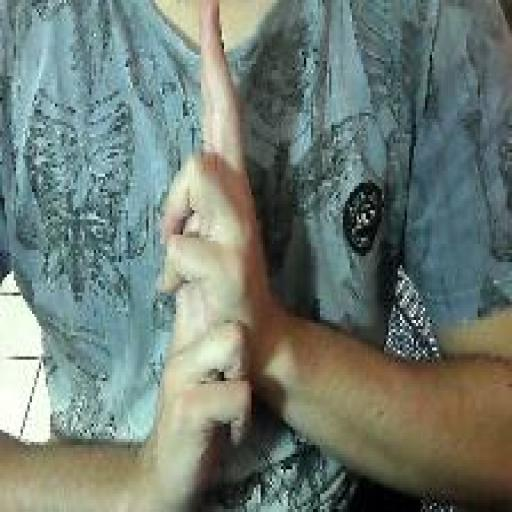Hitsuji -ram-: (150, 0, 262, 509)
